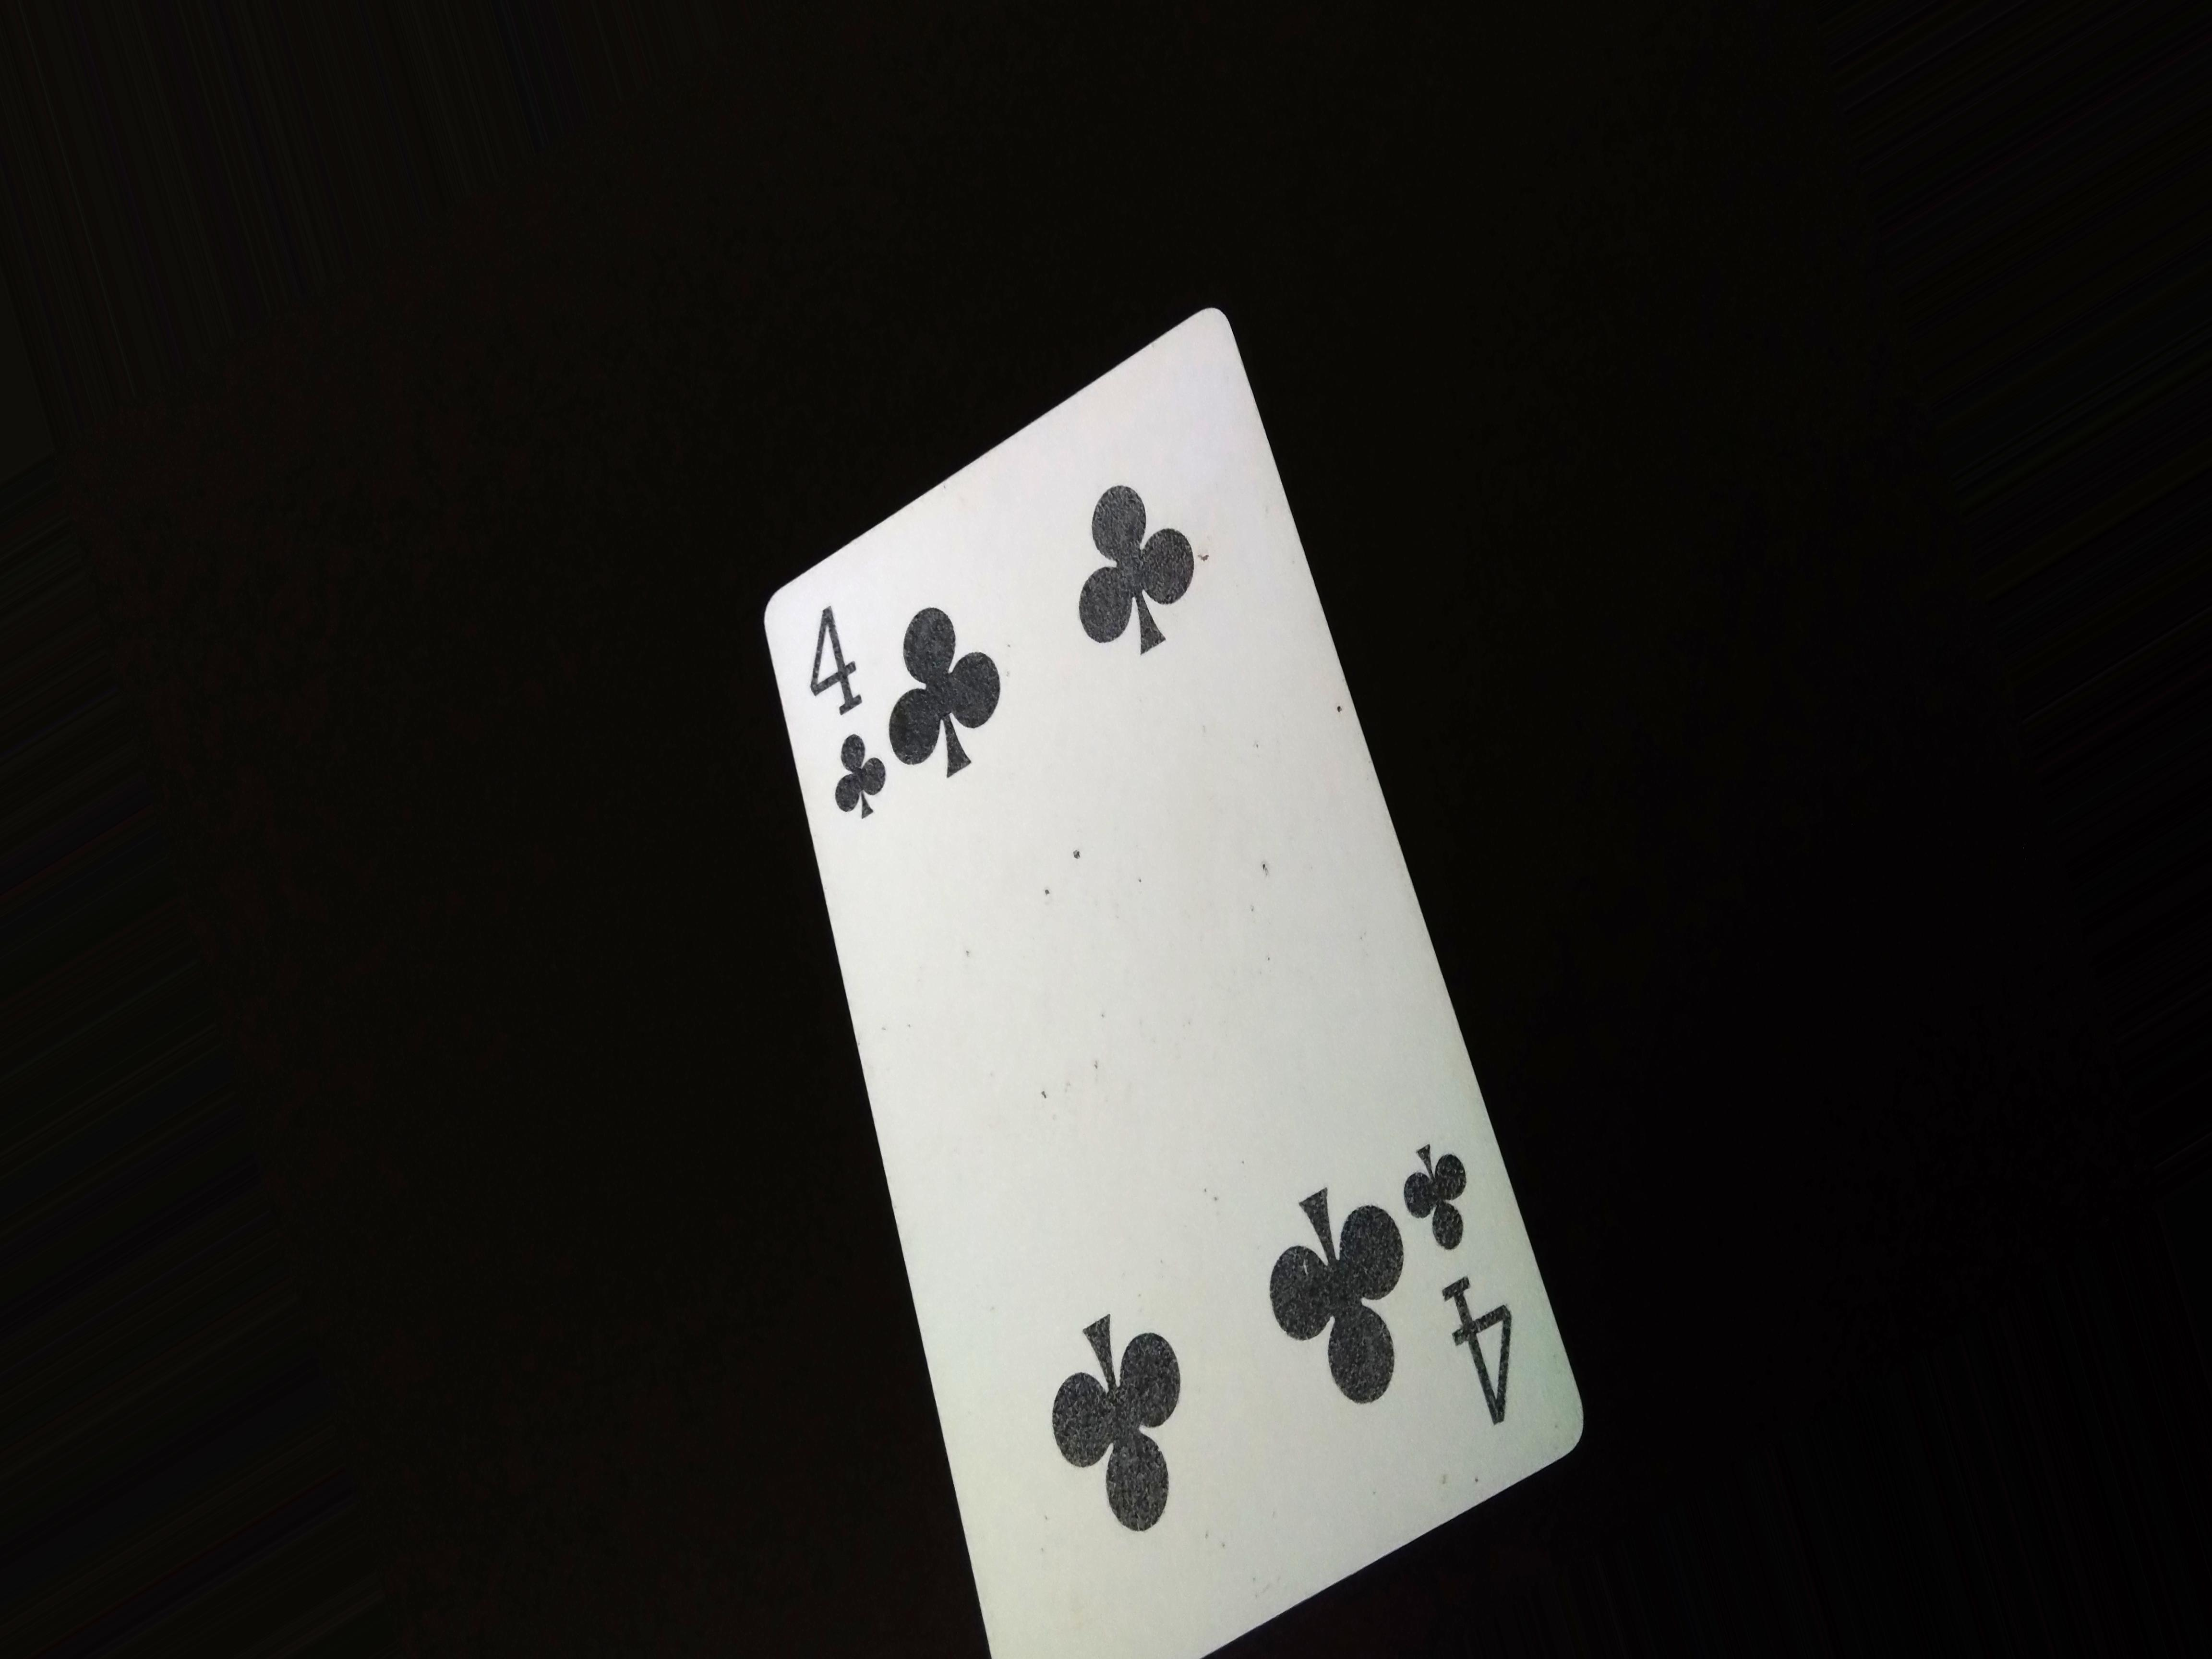4C: (1397, 1129, 1505, 1480)
